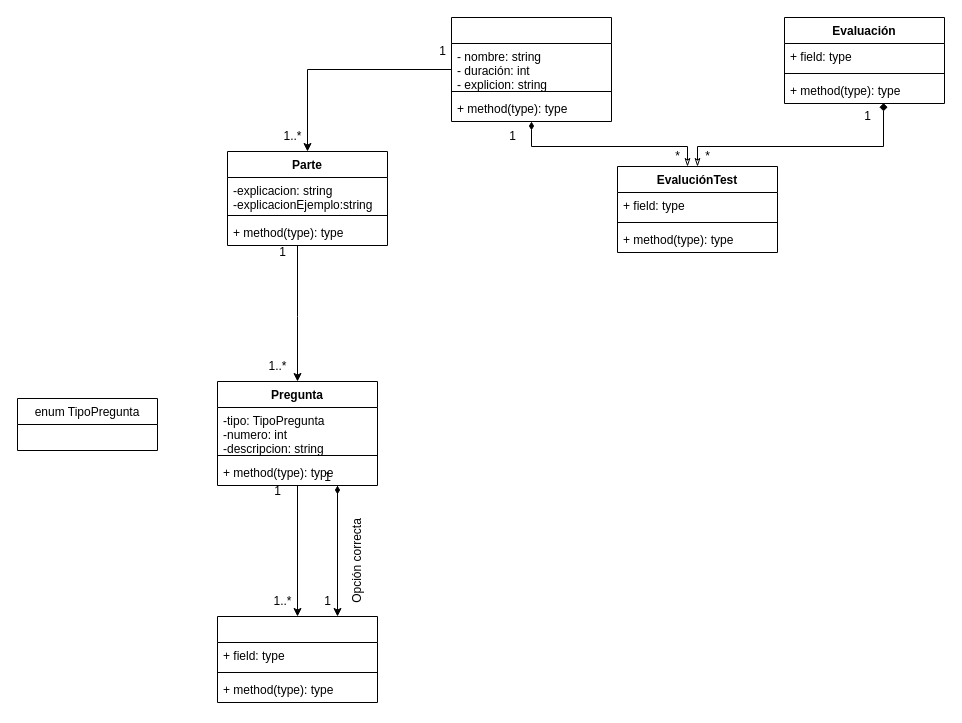
Some shapes in this 962 by 723 pixel diagram are drawn without their labels. Each missing label, with the box of its shape:
Opcion: (216, 616, 378, 702)
Test: (450, 16, 612, 122)
